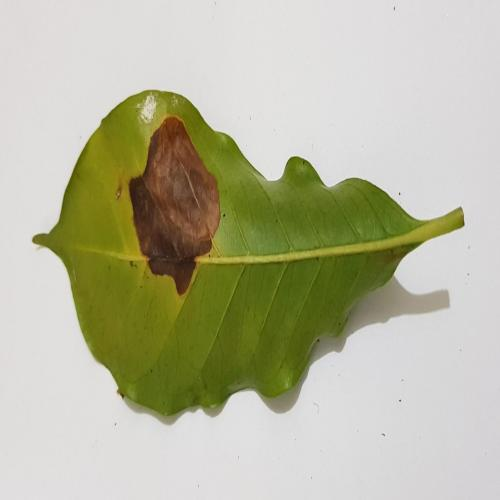leaf: (128, 116, 220, 295)
